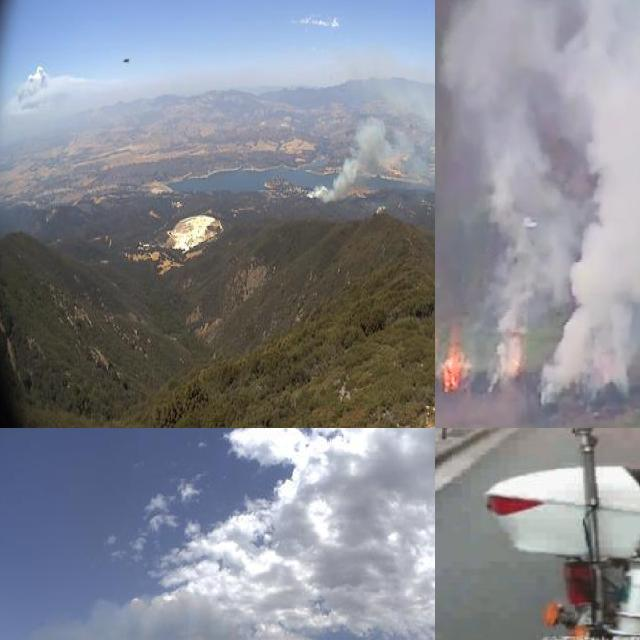fire: (435, 327, 463, 401)
smoke: (439, 0, 640, 402), (300, 71, 435, 207), (96, 593, 321, 640)
